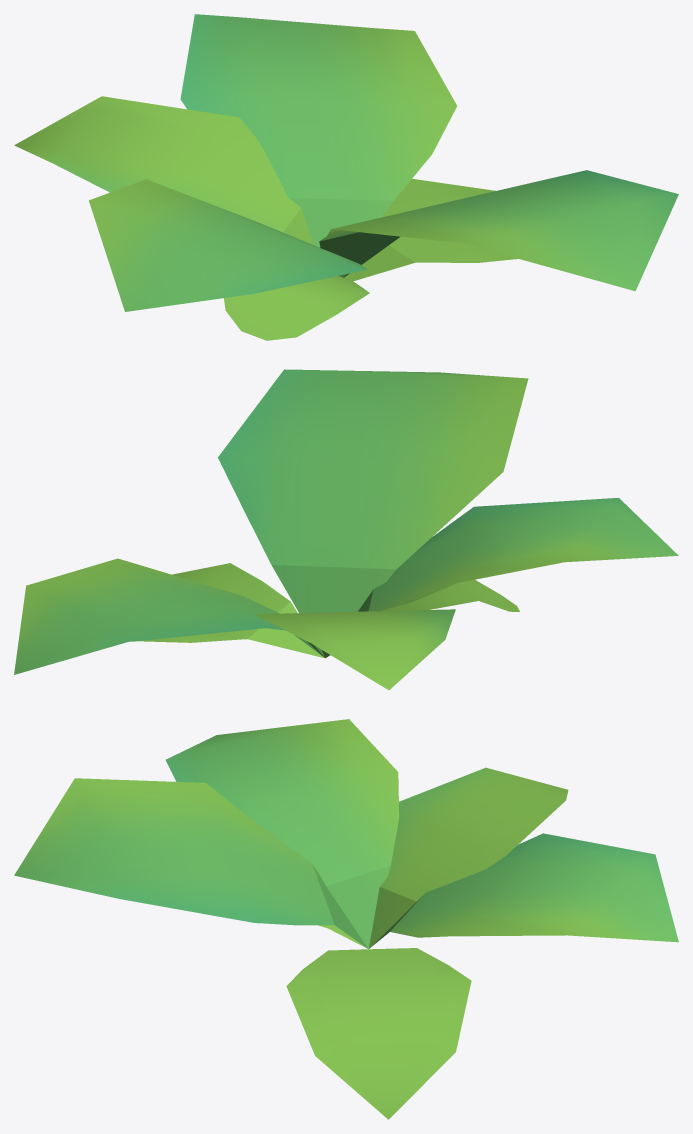
Rendered from Glass_02.fbx.
The picture shows the model from 3 angles, top to bottom: view 1: azimuth 30°, elevation 25°; view 2: azimuth 150°, elevation 25°; view 3: azimuth 270°, elevation 25°; orthographic projection. The views are drawn at different scales.
Parts seen in each view (by area): view 1: glass_02; view 2: glass_02; view 3: glass_02.
Part boxes in pixels (left/top/right/bottom): glass_02: left=14, top=14, right=678, bottom=340; glass_02: left=14, top=369, right=678, bottom=690; glass_02: left=14, top=719, right=678, bottom=1119.
Size of the model in its own units: 48.1 by 19.62 by 57.29.
